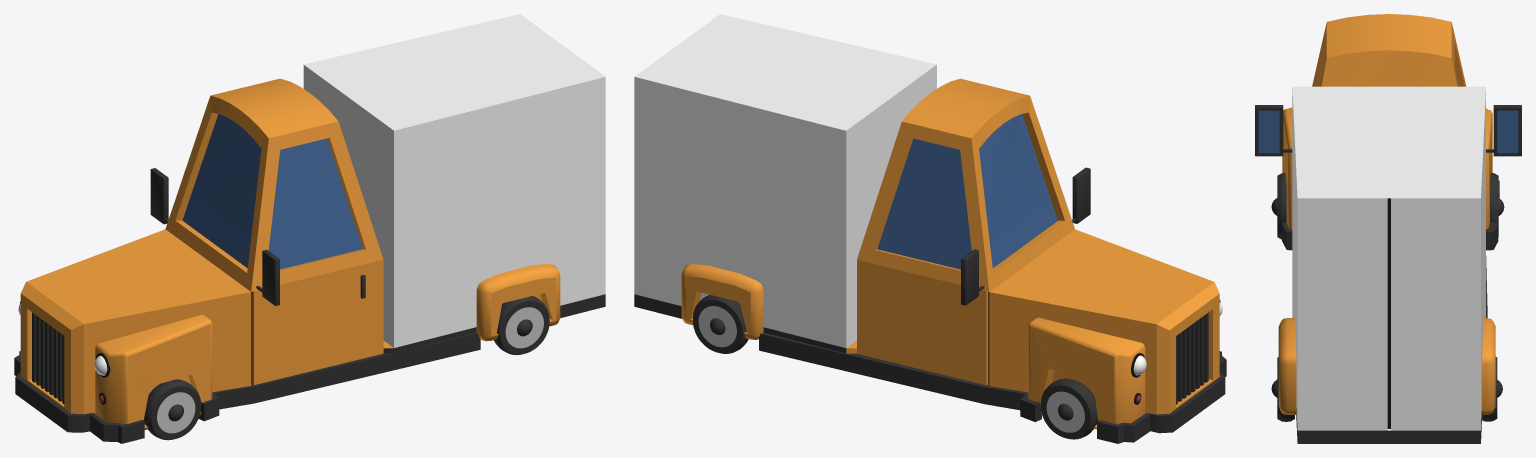
The model's file is edJLxRGWFzS.glb.
The picture shows the model from 3 angles, left to right: view 1: azimuth 30°, elevation 25°; view 2: azimuth 150°, elevation 25°; view 3: azimuth 270°, elevation 25°; orthographic projection. The views are drawn at different scales.
Visible parts, largest first — view 1: Box001; view 2: Box001; view 3: Box001.
Part boxes in pixels (<box>): Box001: <box>14,14,605,443</box>; Box001: <box>634,14,1226,443</box>; Box001: <box>1255,14,1521,443</box>.
Size of the model in its own units: 2.06 by 0.9999 by 0.8532.
